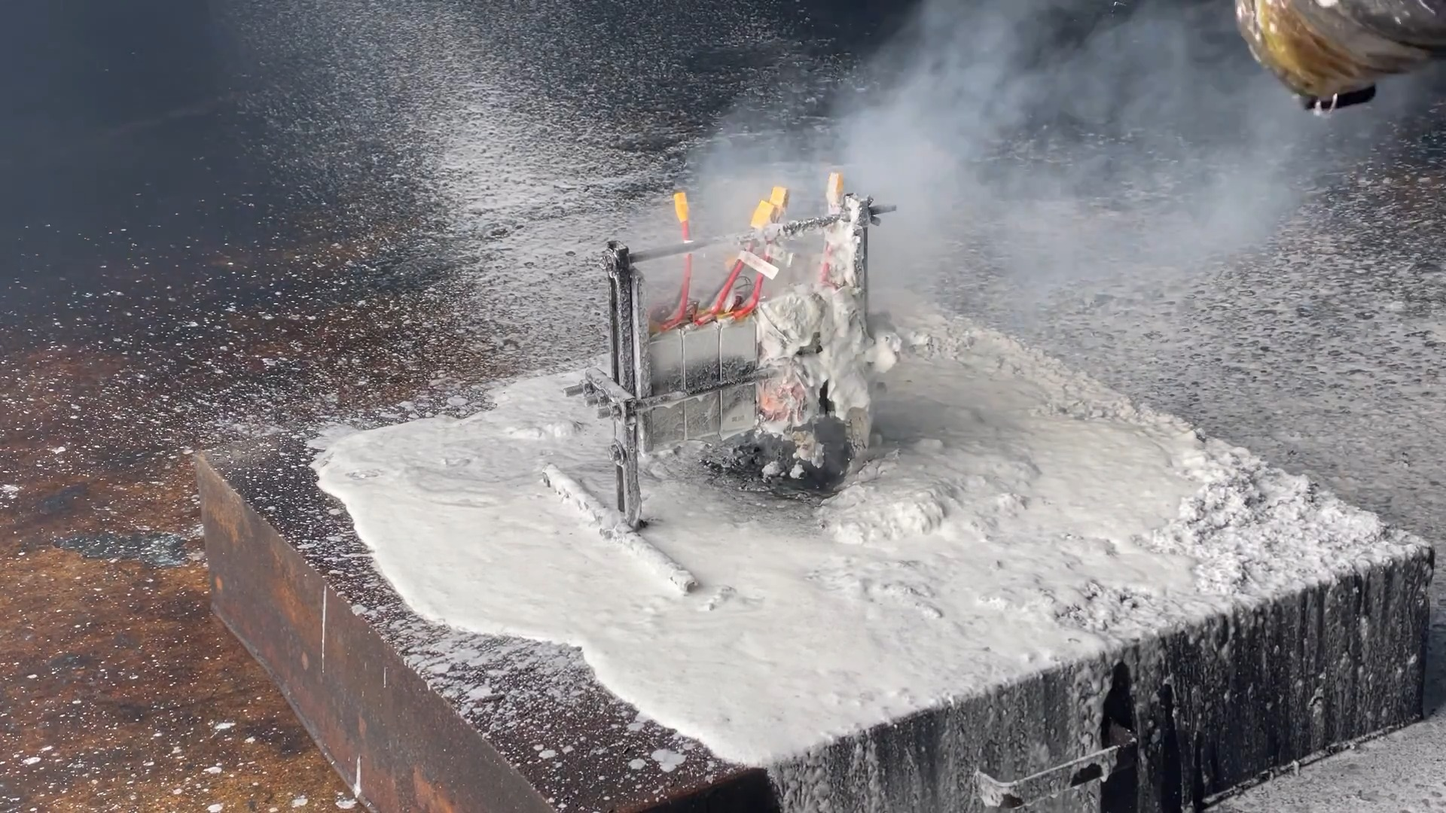smoke: (654, 1, 1252, 346)
